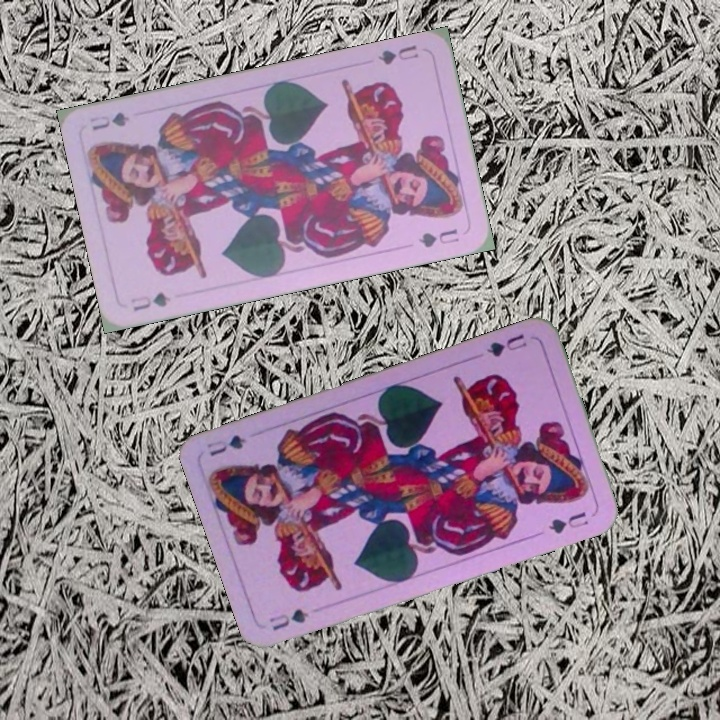GU: (482, 330, 529, 360), (265, 605, 312, 633), (374, 41, 421, 68), (126, 288, 174, 314)
